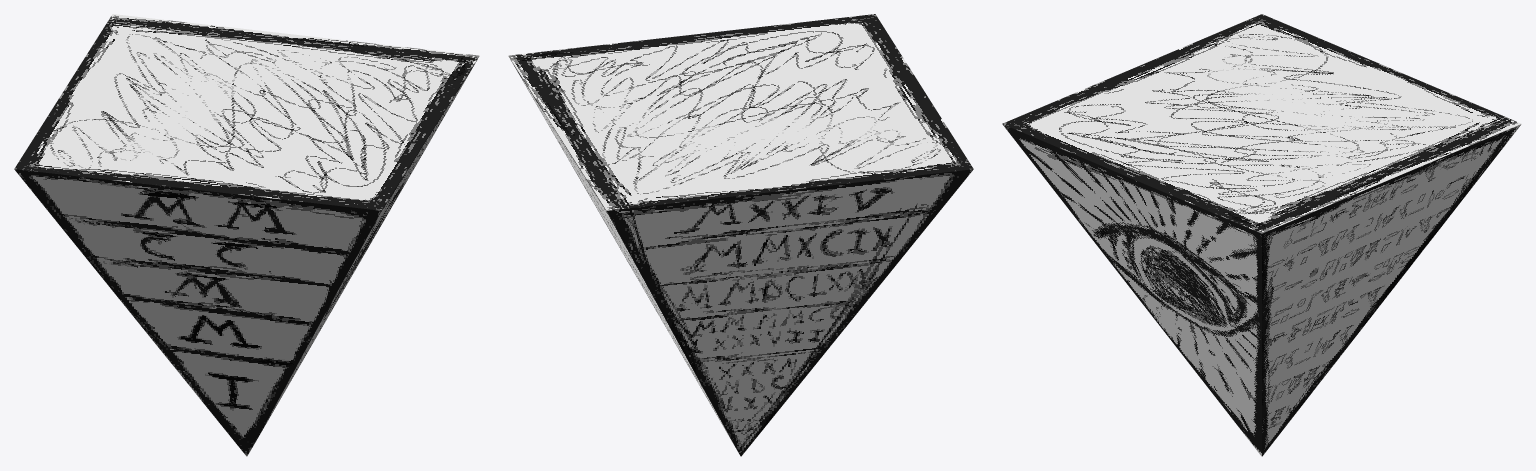
File: bwpyramidrandomhieroglyphs.gltf
3 renders of one model, left to right at view 1: azimuth 30°, elevation 25°; view 2: azimuth 150°, elevation 25°; view 3: azimuth 270°, elevation 25°, orthographic. The views are drawn at different scales.
Visible parts, largest first — view 1: pyramid; view 2: pyramid; view 3: pyramid.
Part boxes in pixels (x1,y1,x2,y2): pyramid: [14, 14, 479, 456]; pyramid: [508, 14, 973, 456]; pyramid: [1002, 14, 1521, 456].
Bounding box in the file's own units: 0.4419 × 0.3125 × 0.4419.
1 material, 1 textured.
